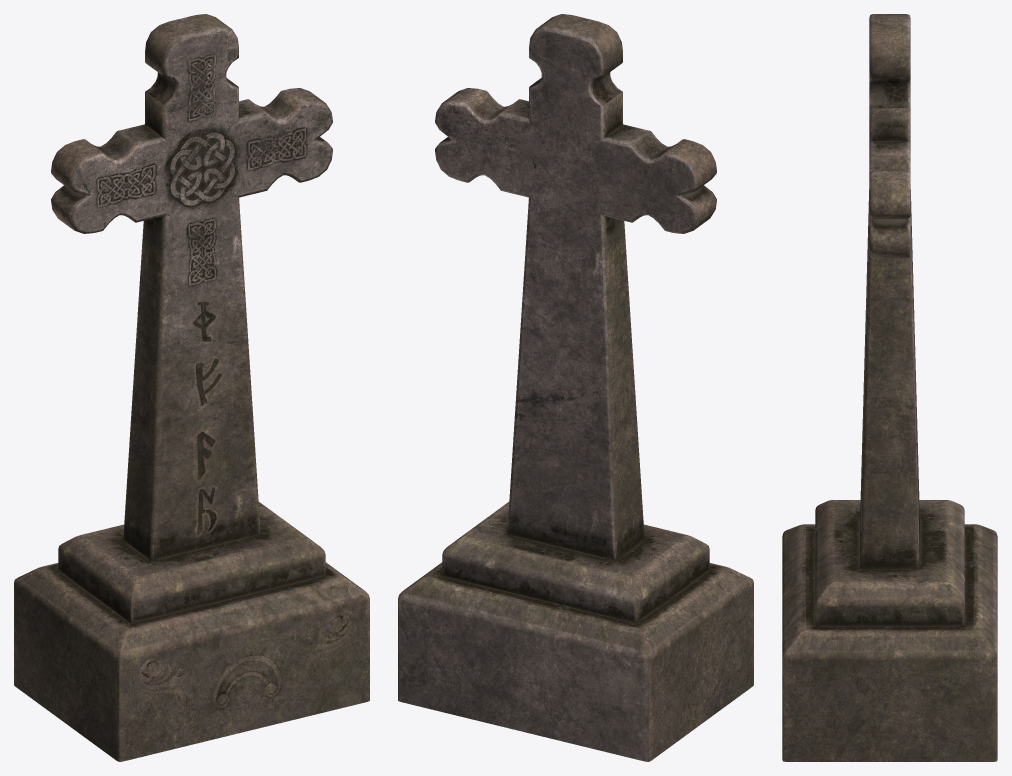
Rendered from SM_gravestone_08.fbx.
3 views of the same model, side by side, from view 1: azimuth 30°, elevation 25°; view 2: azimuth 150°, elevation 25°; view 3: azimuth 270°, elevation 25° (orthographic).
Visible parts, largest first — view 1: SM_gravestone_08; view 2: SM_gravestone_08; view 3: SM_gravestone_08.
Boxes of the visible parts, left/top/right/bottom form: SM_gravestone_08: left=14, top=14, right=369, bottom=761; SM_gravestone_08: left=398, top=14, right=753, bottom=761; SM_gravestone_08: left=782, top=14, right=997, bottom=761.
Size of the model in its own units: 51.71 by 125 by 36.04.
